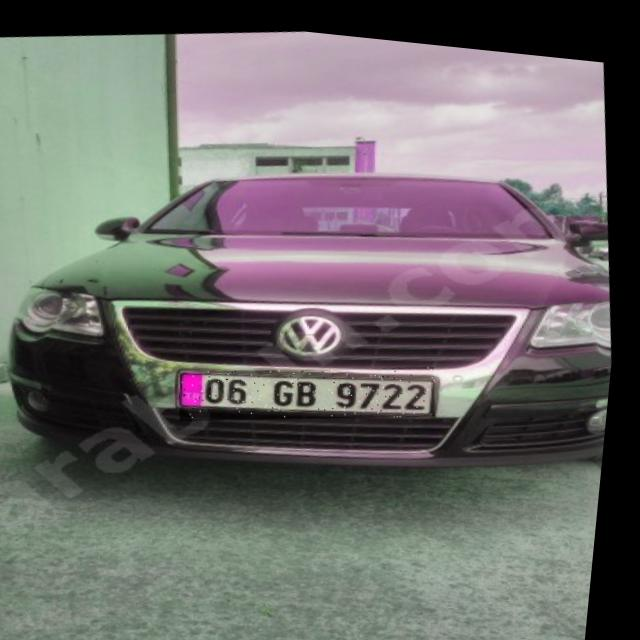license_plate: (182, 335, 446, 436)
